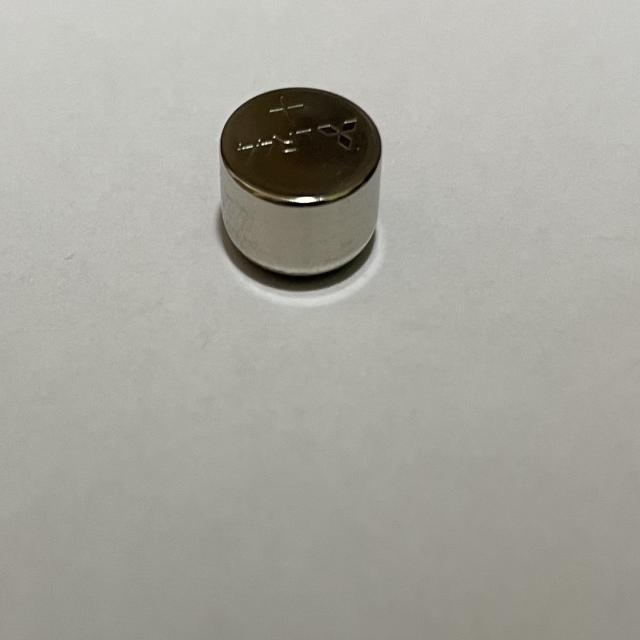COIN: (218, 83, 382, 288)
